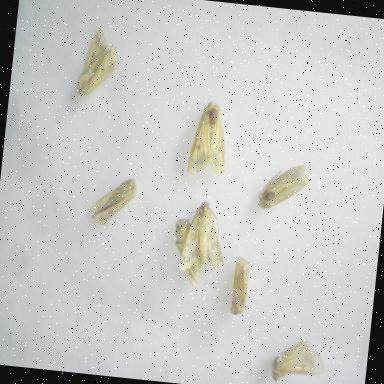abw: (184, 95, 236, 184), (72, 24, 124, 103), (166, 213, 214, 292), (83, 170, 141, 233), (254, 156, 314, 216), (268, 332, 329, 384), (223, 252, 258, 322)
